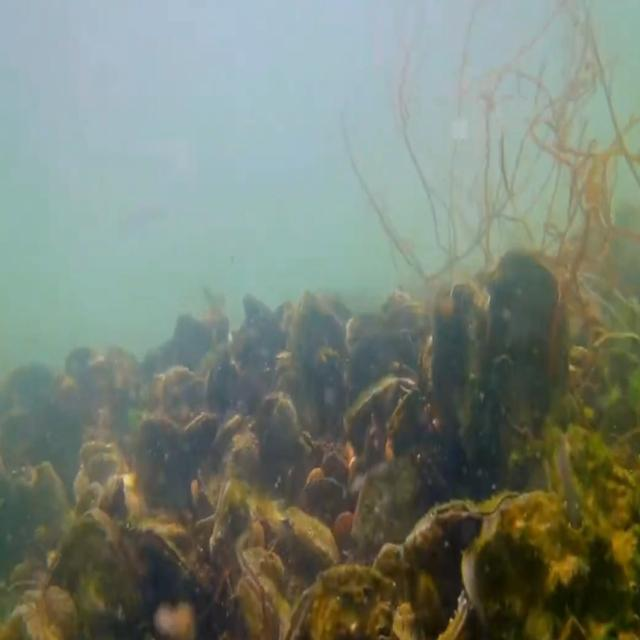Oyster-Closed: (372, 489, 521, 640), (142, 520, 215, 640), (208, 473, 253, 571), (237, 544, 290, 625)
Oyster-Indeterminate: (462, 489, 626, 640), (486, 248, 570, 441), (46, 509, 138, 640), (429, 279, 488, 439), (352, 457, 421, 558), (27, 463, 70, 573), (286, 505, 340, 570)
Oyster-Open: (341, 370, 422, 463)
